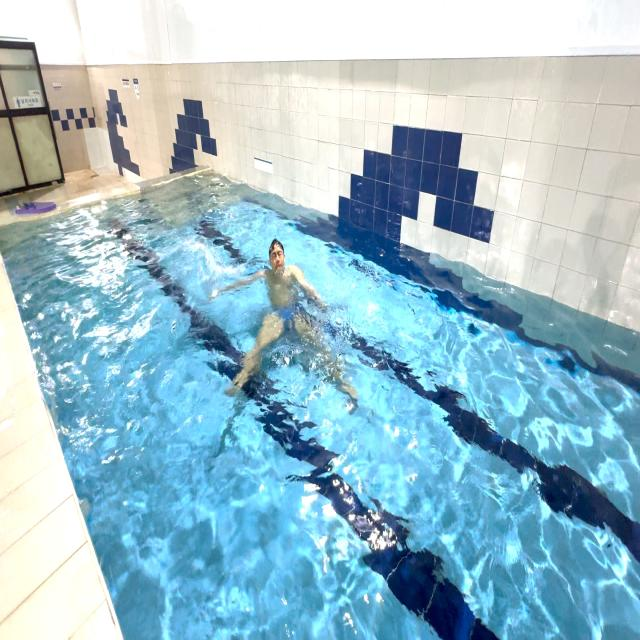Drowning: (199, 228, 367, 416)
